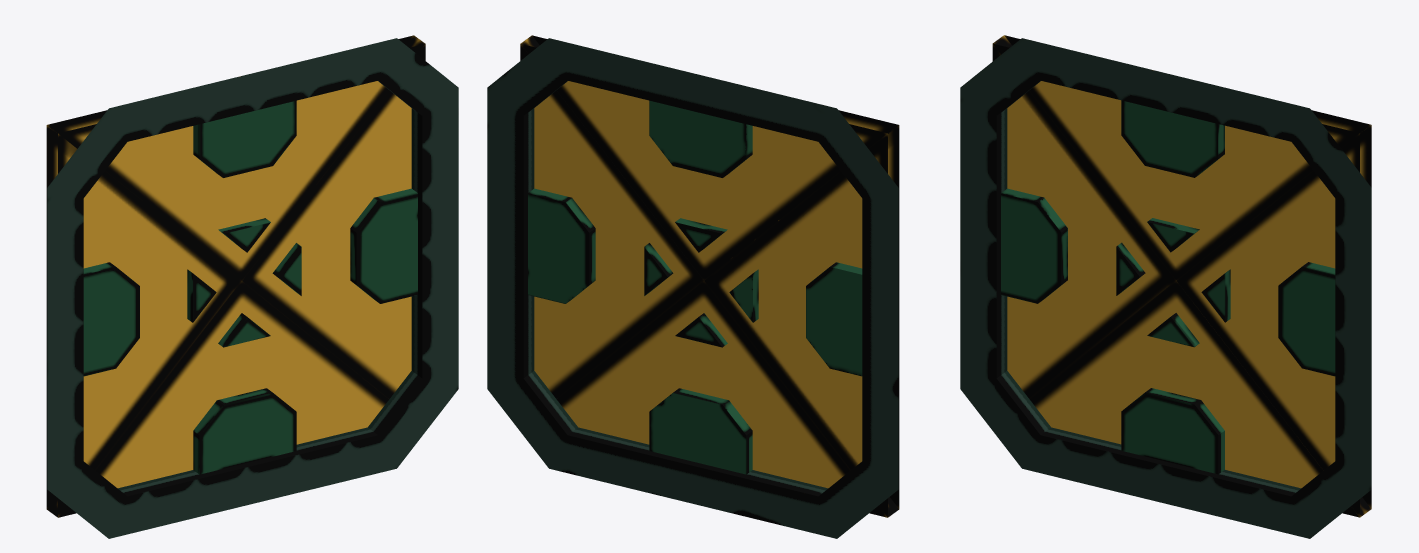
File: porta_rombo_DEF2.fbx
3 renders of one model, left to right at view 1: azimuth 30°, elevation 25°; view 2: azimuth 150°, elevation 25°; view 3: azimuth 330°, elevation 25°, orthographic.
Parts seen in each view (by area): view 1: pasted__pCube1, polySurface4, polySurface10, polySurface13, polySurface6, polySurface3, polySurface11, polySurface8, polySurface14; view 2: pasted__pCube1, polySurface4, polySurface10, polySurface13, polySurface6, polySurface3, polySurface11, polySurface8, polySurface14; view 3: pasted__pCube1, polySurface13, polySurface10, polySurface4, polySurface6, polySurface11, polySurface14, polySurface3, polySurface8.
Boxes of the visible parts, bbox=[...] form: pasted__pCube1: bbox=[47, 38, 458, 538]; polySurface4: bbox=[242, 37, 425, 398]; polySurface10: bbox=[58, 281, 389, 517]; polySurface13: bbox=[46, 125, 241, 517]; polySurface6: bbox=[47, 35, 424, 280]; polySurface3: bbox=[350, 188, 417, 303]; polySurface11: bbox=[193, 388, 296, 474]; polySurface8: bbox=[193, 100, 296, 177]; polySurface14: bbox=[83, 262, 139, 376]; pasted__pCube1: bbox=[487, 38, 898, 538]; polySurface4: bbox=[520, 37, 703, 398]; polySurface10: bbox=[556, 281, 887, 517]; polySurface13: bbox=[704, 125, 899, 517]; polySurface6: bbox=[521, 35, 898, 280]; polySurface3: bbox=[528, 188, 595, 303]; polySurface11: bbox=[649, 388, 752, 474]; polySurface8: bbox=[649, 100, 752, 177]; polySurface14: bbox=[806, 262, 862, 376]; pasted__pCube1: bbox=[960, 38, 1371, 538]; polySurface13: bbox=[992, 35, 1175, 398]; polySurface10: bbox=[1029, 280, 1359, 517]; polySurface4: bbox=[1176, 125, 1371, 517]; polySurface6: bbox=[993, 35, 1370, 280]; polySurface11: bbox=[1121, 388, 1224, 474]; polySurface14: bbox=[1001, 188, 1067, 303]; polySurface3: bbox=[1278, 262, 1335, 376]; polySurface8: bbox=[1121, 100, 1224, 177].
Size of the model in its own units: 4.26 by 4.26 by 0.5898.
1 material, 1 textured.
